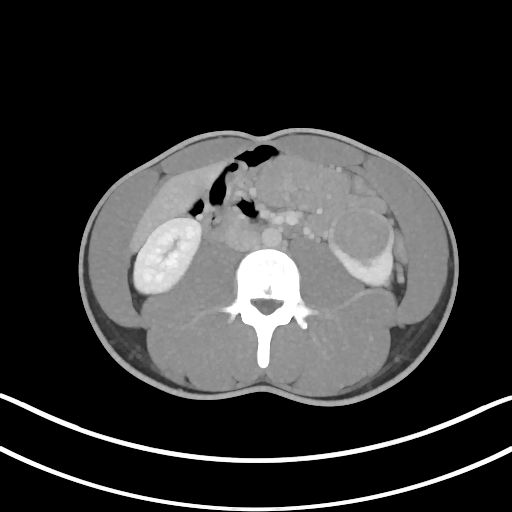Lesion: (334, 209, 392, 267)
